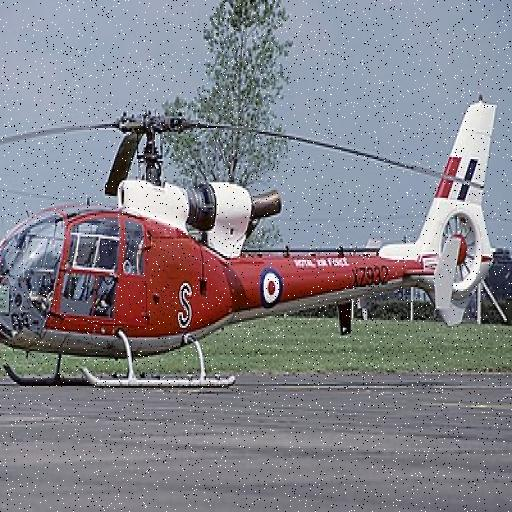helicopter: (1, 116, 507, 399)
